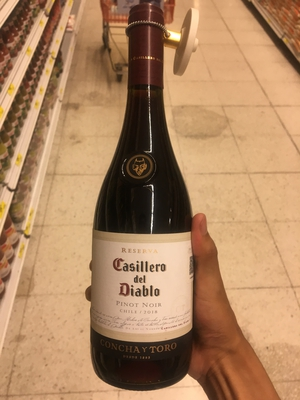casillero del diablo pinot noir: (80, 14, 211, 377)
